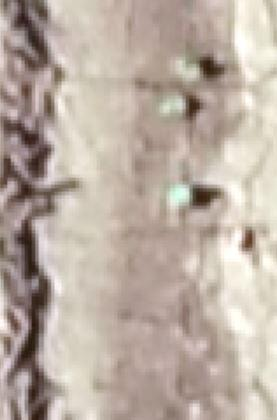cotton: (168, 184, 193, 207), (177, 57, 202, 78), (164, 95, 188, 116)
